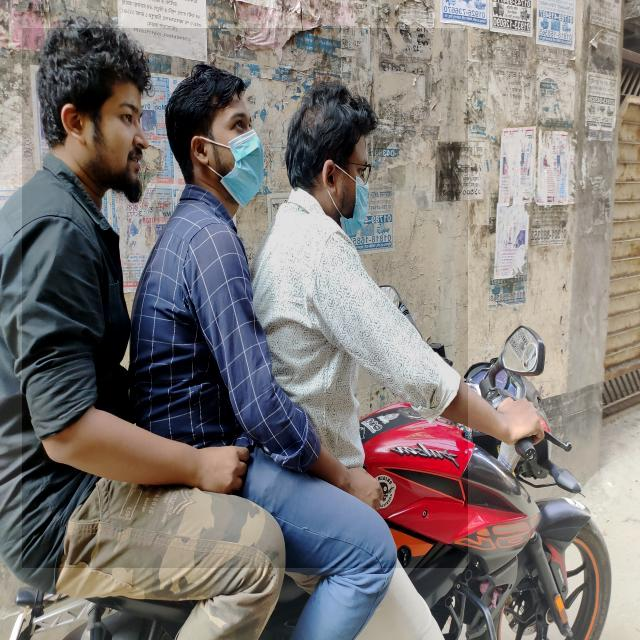Overloading: (22, 28, 468, 568)
